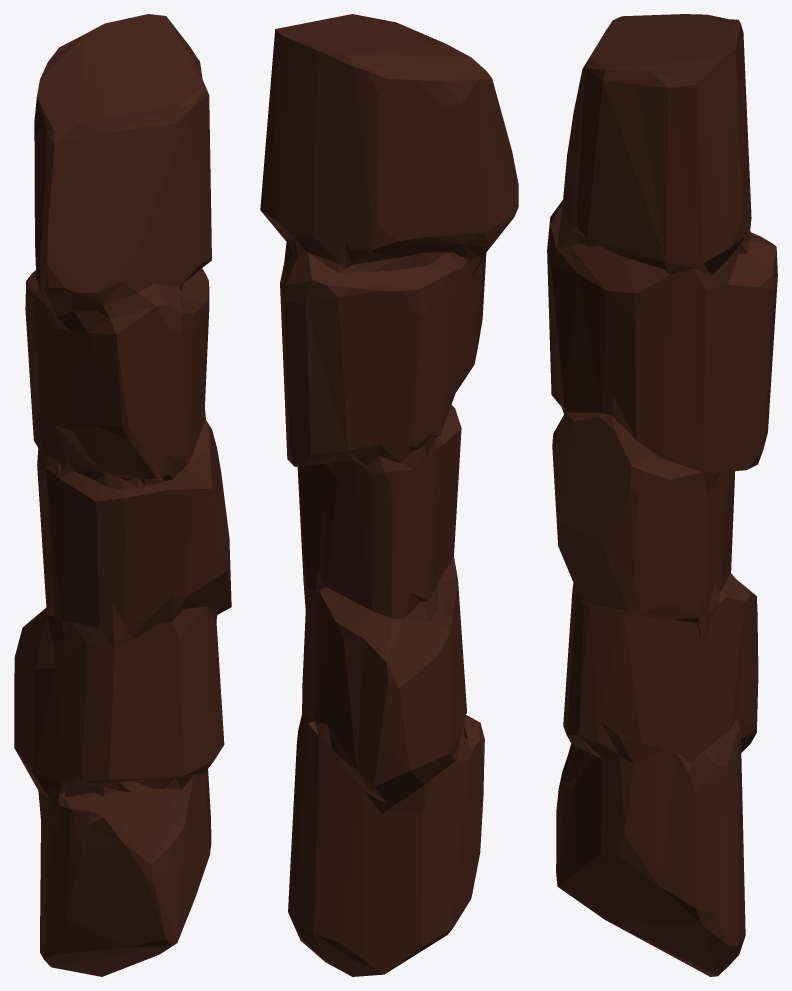
File: sc_FeiTu_mesh_shan9.FBX
3 views of the same model, side by side, from view 1: azimuth 30°, elevation 25°; view 2: azimuth 150°, elevation 25°; view 3: azimuth 270°, elevation 25° (orthographic). The views are drawn at different scales.
Parts seen in each view (by area): view 1: mesh_shan9; view 2: mesh_shan9; view 3: mesh_shan9.
Part boxes in pixels (box(x1,y1,x2,y2)): mesh_shan9: box(14, 14, 231, 976); mesh_shan9: box(260, 14, 518, 976); mesh_shan9: box(547, 14, 777, 976).
Size of the model in its own units: 781 by 3489 by 763.
